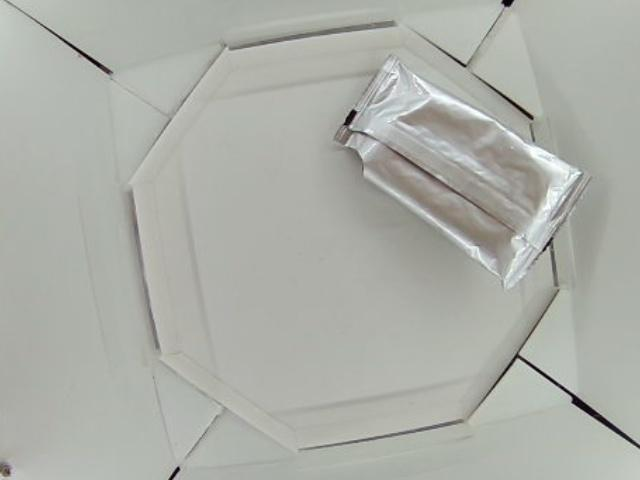Medicine: (331, 52, 589, 292)
